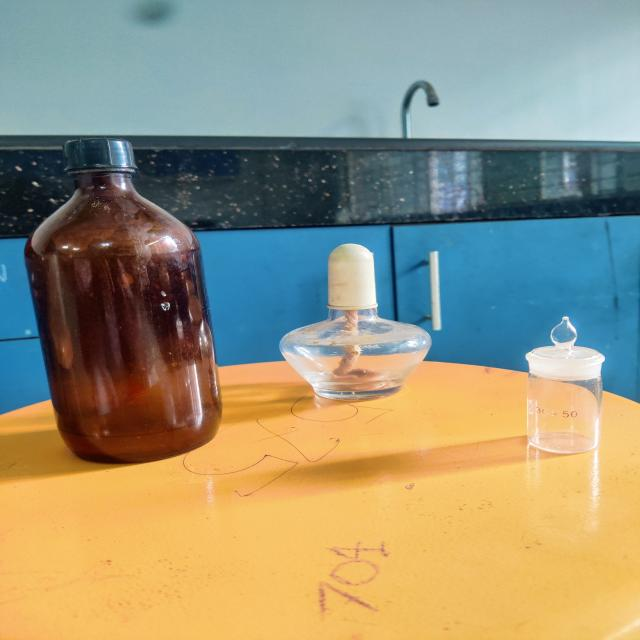Nessler_Reagent_Bottle: (1, 120, 251, 481)
Spirit_Lamp: (265, 216, 446, 421)
Weighing_Bottle: (489, 306, 640, 480)
